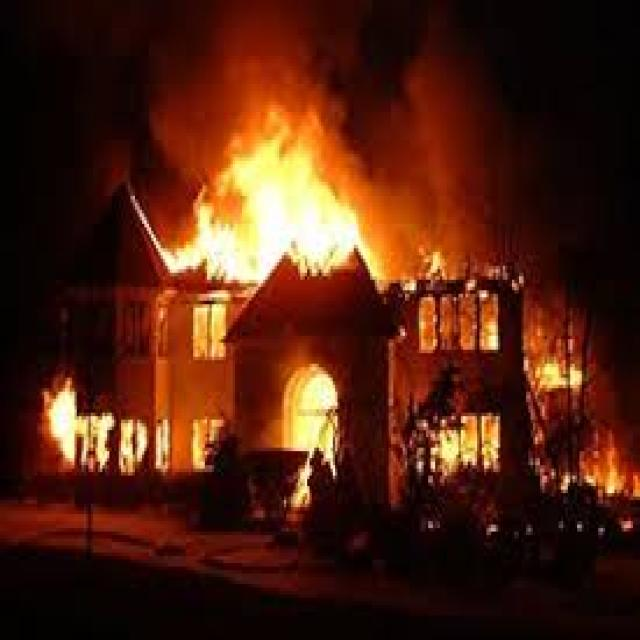fire: (157, 130, 369, 282), (291, 376, 339, 485), (593, 436, 640, 501), (42, 389, 79, 471)
